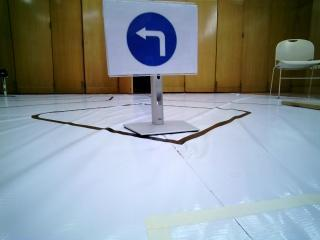left: (103, 3, 205, 77)
